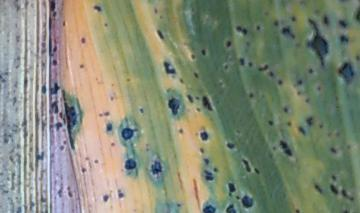tarspot: (307, 17, 328, 67), (62, 88, 77, 150), (337, 61, 355, 85), (279, 139, 292, 157), (169, 98, 180, 115), (202, 168, 214, 183), (202, 95, 212, 112), (164, 62, 176, 76), (242, 194, 254, 208), (121, 127, 134, 139), (151, 161, 162, 175), (242, 157, 252, 172), (234, 25, 247, 35), (202, 204, 216, 213), (50, 83, 61, 94), (124, 159, 136, 169), (65, 185, 74, 198), (51, 100, 59, 114), (225, 203, 236, 213), (156, 28, 164, 41), (339, 33, 349, 43), (227, 182, 236, 193), (330, 183, 339, 194), (257, 64, 269, 72), (199, 131, 208, 141), (355, 6, 360, 24), (297, 125, 306, 135), (39, 83, 47, 94), (238, 55, 245, 67), (54, 122, 63, 131), (314, 183, 322, 193), (37, 151, 45, 161), (226, 141, 235, 149), (306, 116, 313, 126), (57, 188, 64, 198), (224, 40, 232, 48), (266, 118, 274, 126), (272, 19, 280, 27), (49, 1, 56, 10), (187, 93, 194, 102), (106, 123, 113, 132), (103, 194, 110, 203), (254, 166, 261, 175), (341, 188, 347, 198), (93, 5, 101, 12), (203, 157, 210, 165), (282, 26, 290, 33), (340, 19, 347, 27), (330, 148, 338, 155), (323, 14, 328, 24), (52, 45, 58, 53), (201, 48, 207, 56), (98, 112, 110, 116), (193, 72, 199, 79), (277, 79, 283, 86), (290, 16, 297, 22), (297, 79, 303, 86), (348, 195, 354, 202), (118, 191, 123, 199), (191, 52, 196, 60), (283, 106, 288, 114), (355, 55, 360, 63), (178, 128, 184, 134), (80, 38, 86, 44), (268, 72, 274, 78), (93, 158, 99, 164), (331, 175, 337, 181), (52, 58, 57, 65), (198, 148, 205, 153), (139, 107, 144, 114), (308, 67, 313, 74), (296, 89, 301, 96), (343, 208, 350, 213), (175, 202, 182, 207), (317, 85, 321, 93), (179, 78, 184, 84), (236, 195, 241, 201), (248, 93, 254, 98), (81, 167, 86, 173), (196, 107, 201, 113), (256, 25, 261, 31), (287, 121, 292, 127), (305, 98, 310, 104), (295, 208, 301, 213), (214, 168, 219, 174), (62, 20, 66, 27), (154, 8, 158, 15), (52, 12, 57, 17), (195, 95, 200, 100), (248, 62, 253, 67), (224, 64, 228, 70), (319, 123, 323, 129), (79, 64, 84, 68), (104, 22, 108, 27), (111, 143, 115, 147)
